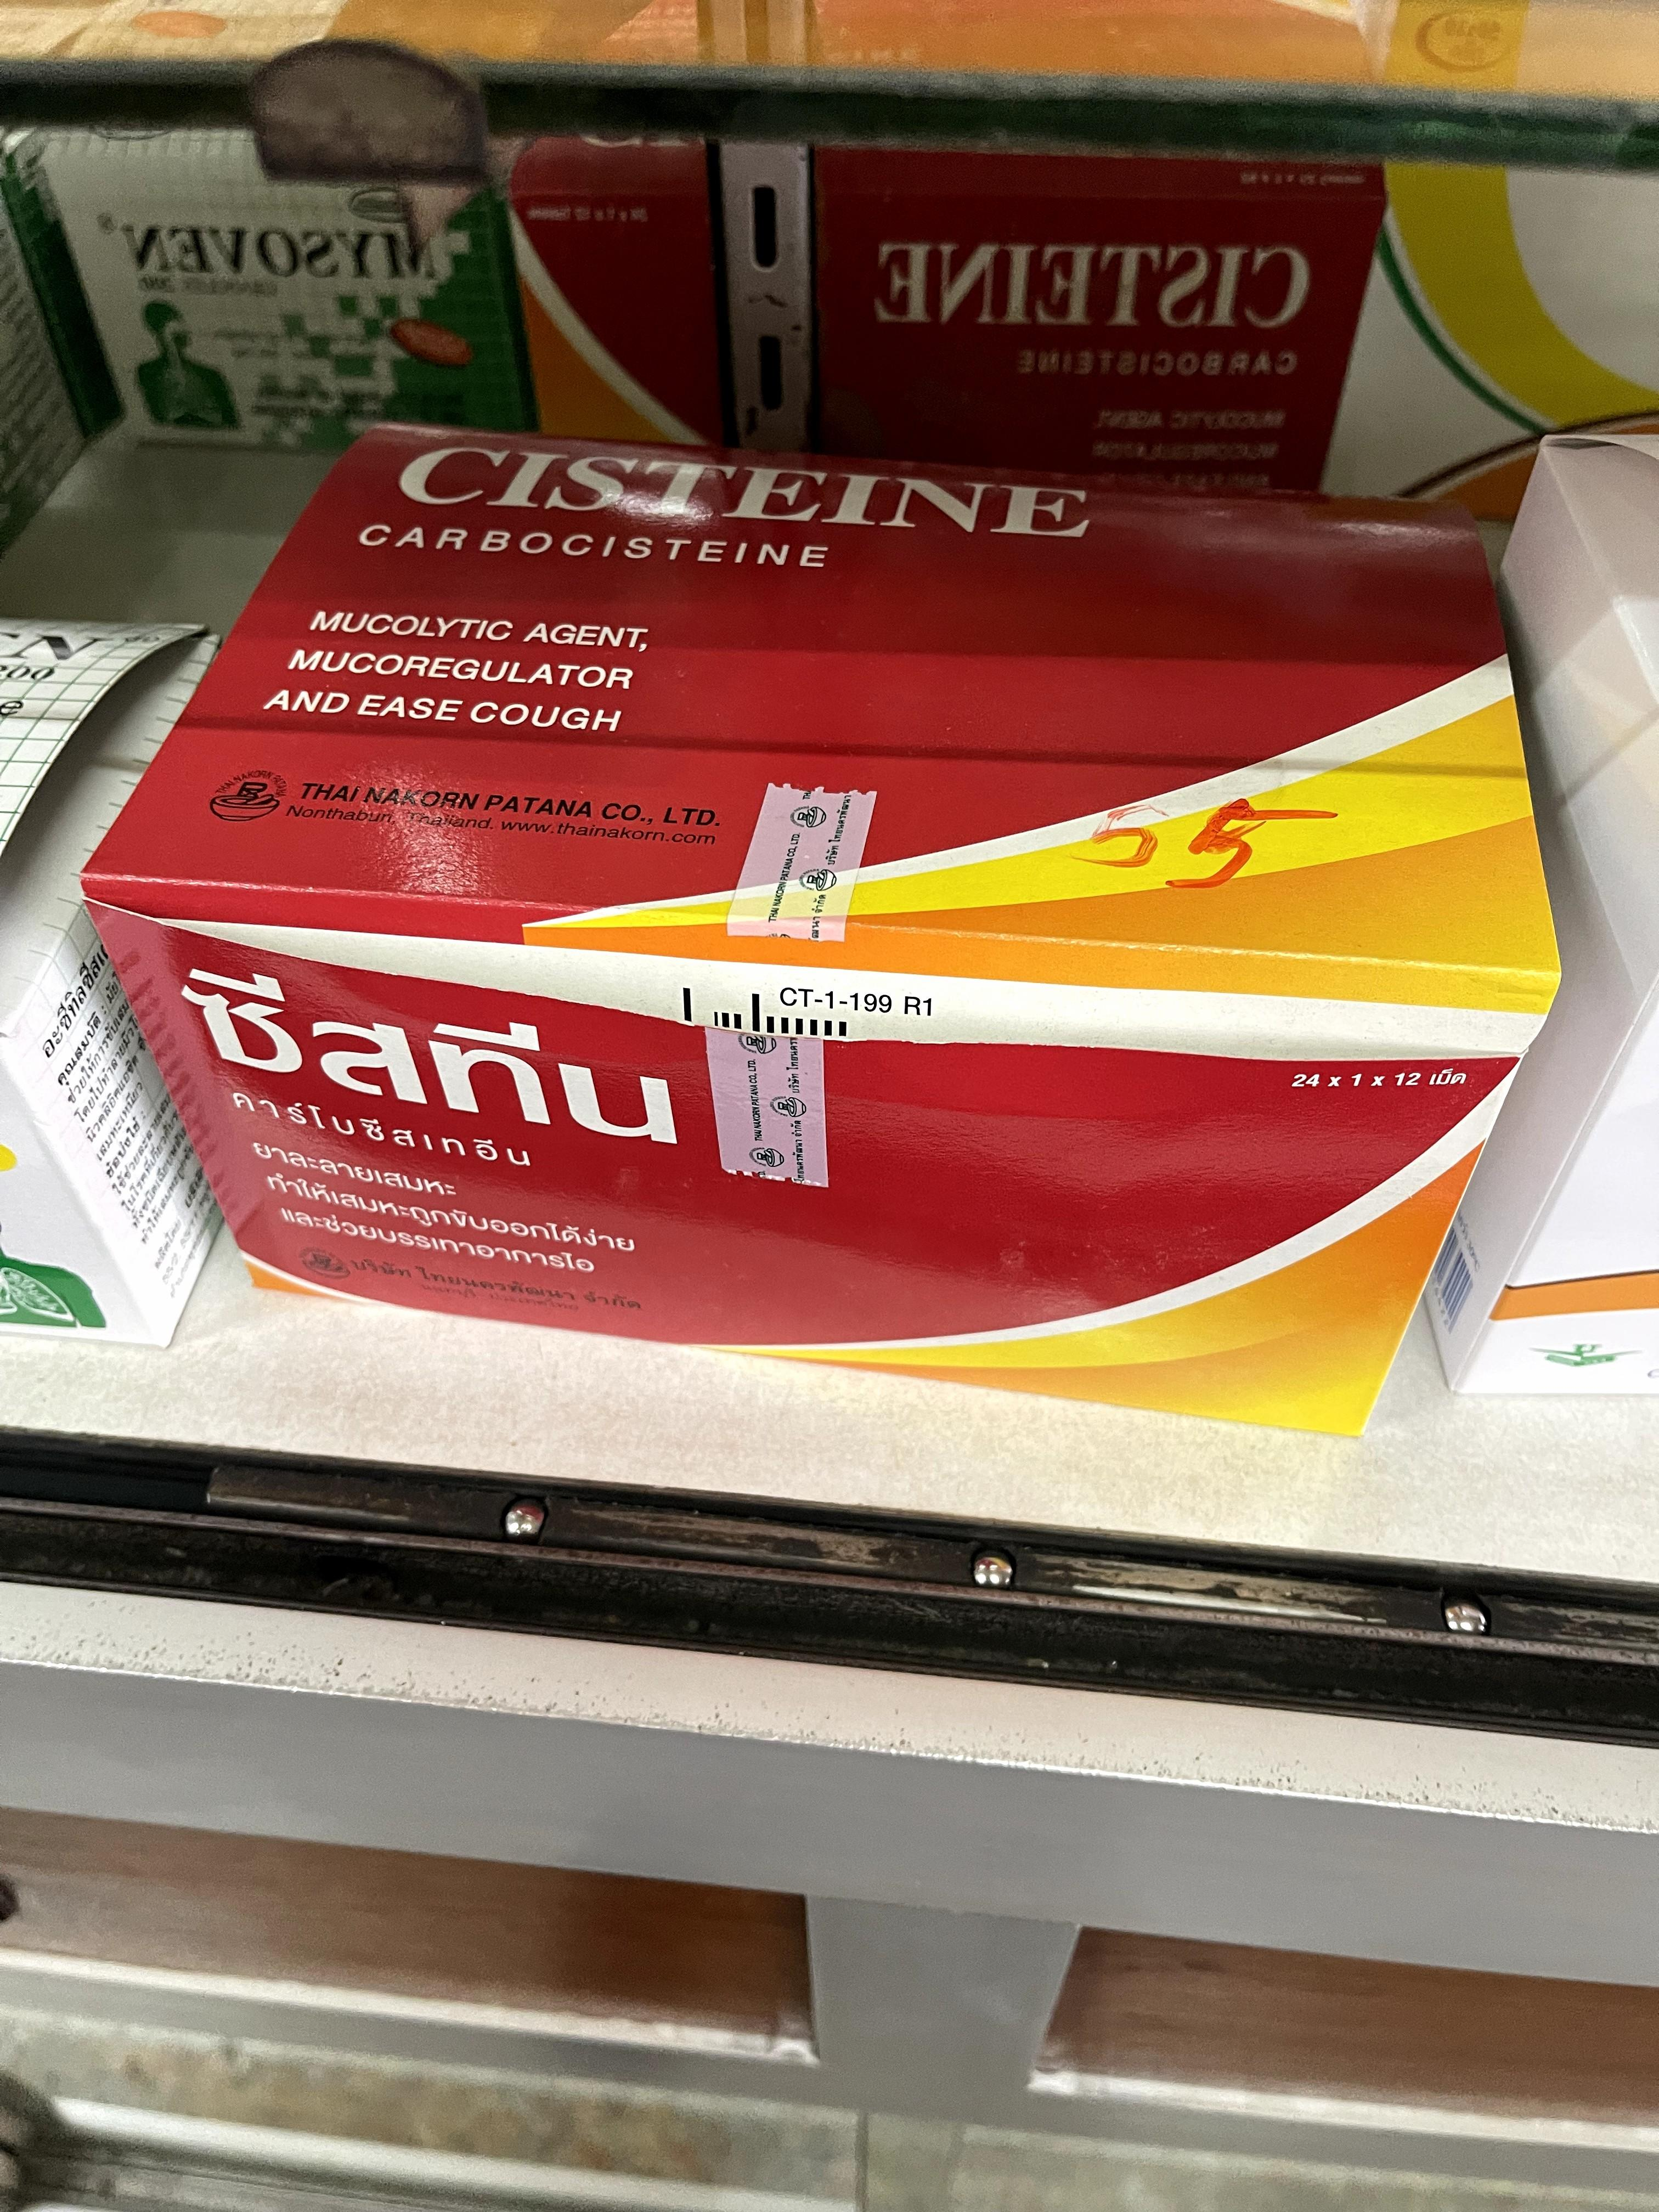Cisteine_Box: (101, 423, 1549, 1446)
